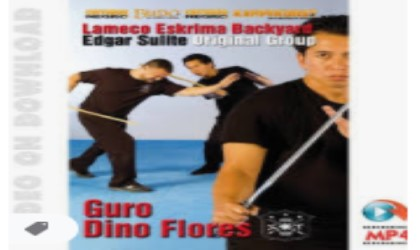baston_e: (250, 102, 338, 213), (168, 70, 206, 89)
